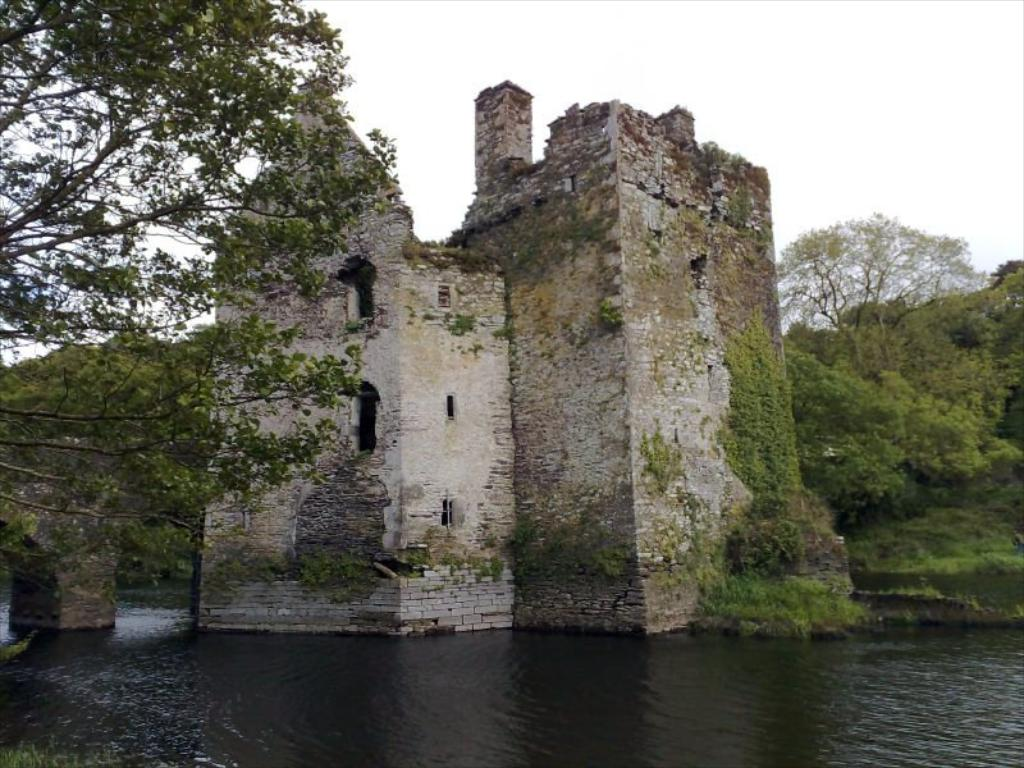Tree: (0, 0, 401, 577), (768, 205, 1024, 521)
